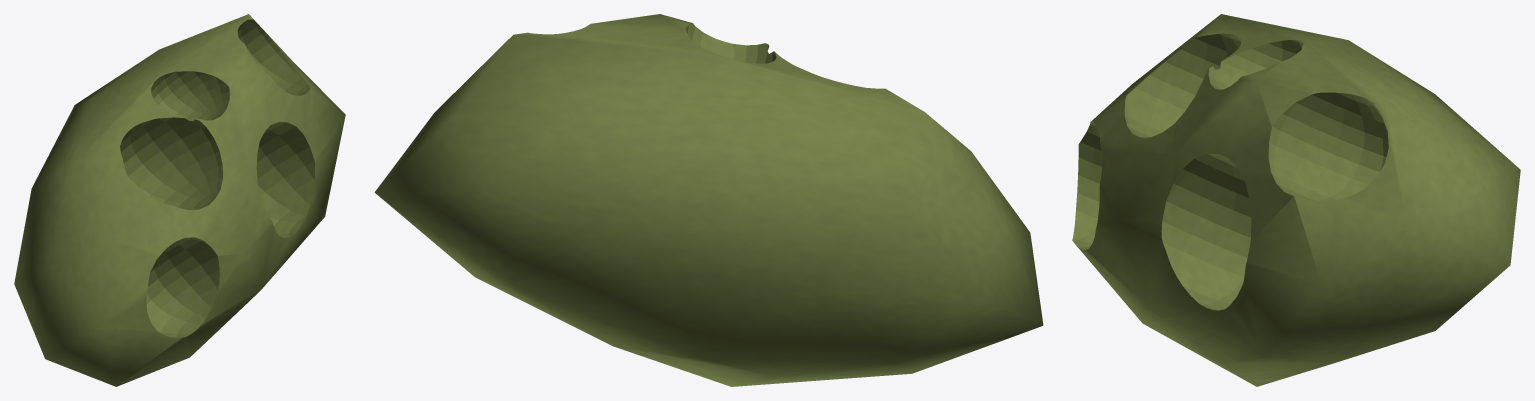
The picture shows the model from 3 angles, left to right: view 1: azimuth 30°, elevation 25°; view 2: azimuth 150°, elevation 25°; view 3: azimuth 270°, elevation 25°; orthographic projection. The views are drawn at different scales.
Parts seen in each view (by area): view 1: Irregular porous ionic crust; view 2: Irregular porous ionic crust; view 3: Irregular porous ionic crust.
Part boxes in pixels (x1,y1,x2,y2): Irregular porous ionic crust: [14, 14, 345, 386]; Irregular porous ionic crust: [374, 14, 1043, 386]; Irregular porous ionic crust: [1072, 14, 1520, 386].
Size of the model in its own units: 1.03 by 0.7129 by 0.8277.
1 material, 1 textured.
